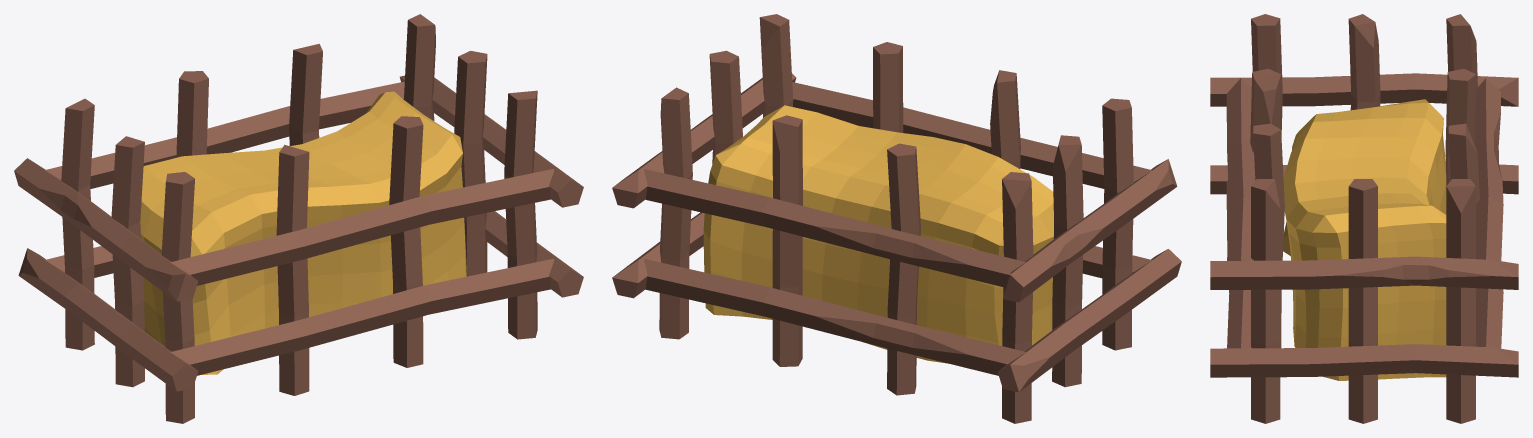
Rendered from 011 Dry_Grass_box.FBX.
3 renders of one model, left to right at view 1: azimuth 30°, elevation 25°; view 2: azimuth 150°, elevation 25°; view 3: azimuth 270°, elevation 25°, orthographic. The views are drawn at different scales.
Parts seen in each view (by area): view 1: Cylinder406, Box426; view 2: Cylinder406, Box426; view 3: Cylinder406, Box426.
Boxes of the visible parts, bbox=[...] form: Cylinder406: bbox=[14, 14, 583, 423]; Box426: bbox=[140, 91, 466, 374]; Cylinder406: bbox=[612, 14, 1181, 423]; Box426: bbox=[703, 105, 1053, 363]; Cylinder406: bbox=[1210, 14, 1518, 423]; Box426: bbox=[1283, 99, 1446, 380].
Size of the model in its own units: 142 by 78.68 by 94.33.
